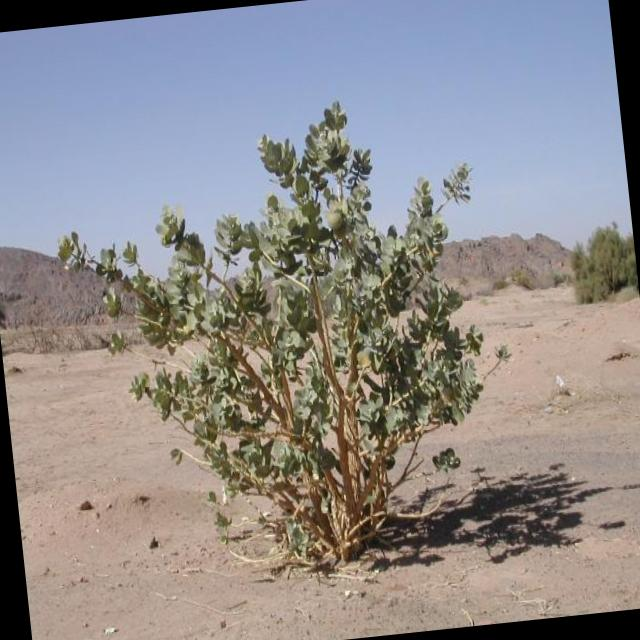Poisonous-Calatropis: (43, 78, 514, 590)
